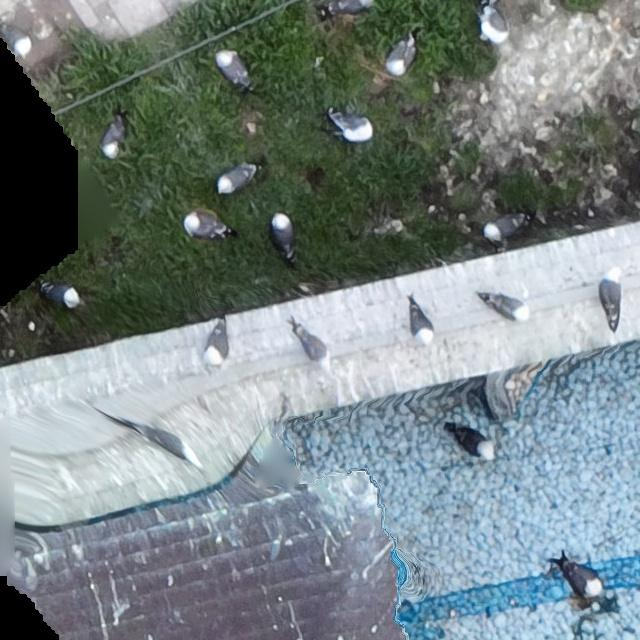umineko: (139, 426, 205, 470), (288, 321, 333, 371), (205, 319, 232, 366), (2, 26, 34, 59), (566, 563, 601, 593), (218, 52, 246, 84), (219, 164, 252, 190), (386, 40, 411, 72), (491, 296, 526, 317), (487, 216, 522, 237), (45, 284, 78, 306), (339, 118, 372, 140), (411, 306, 432, 338), (185, 216, 217, 236), (456, 429, 484, 451), (104, 121, 122, 155), (272, 216, 290, 249), (333, 0, 370, 11)
